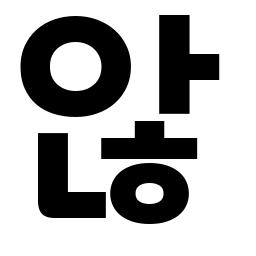Gaji: (149, 42, 205, 95)
